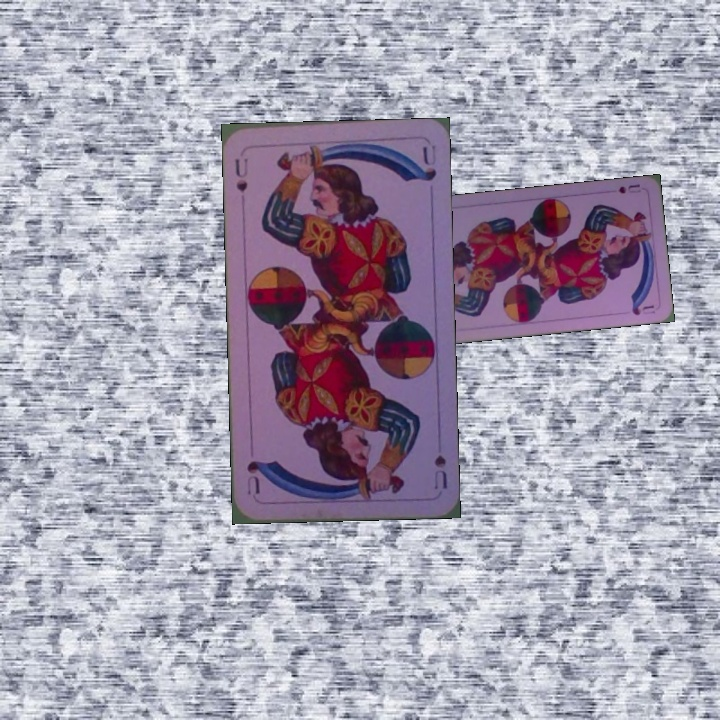SU: (231, 154, 251, 207), (430, 451, 450, 492), (615, 180, 643, 196)
